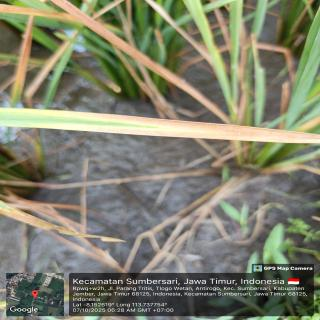Hawar-Daun: (45, 111, 318, 143)
